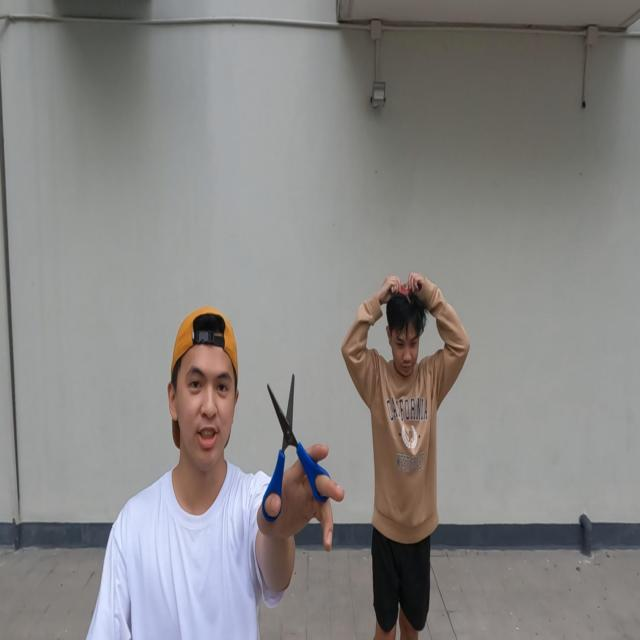scissor: (258, 374, 333, 518)
